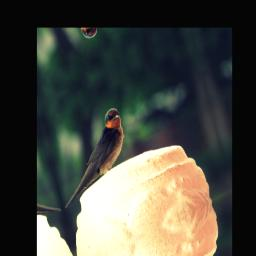Swallow: (47, 103, 136, 211)
